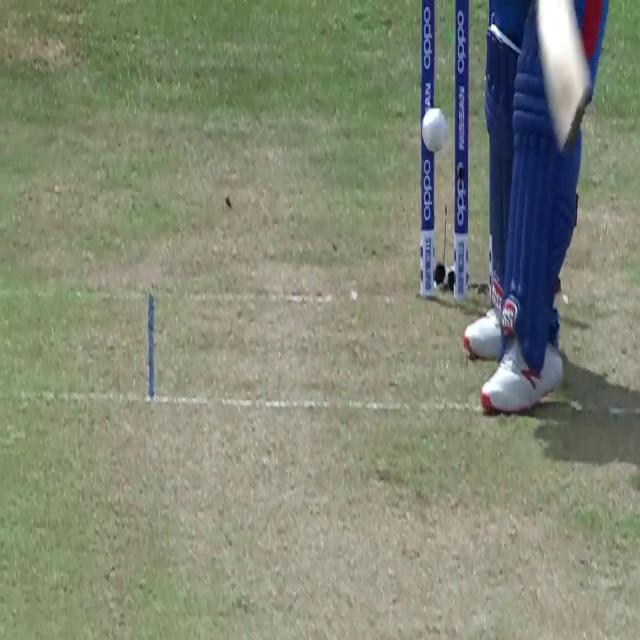ball: (421, 106, 447, 154)
